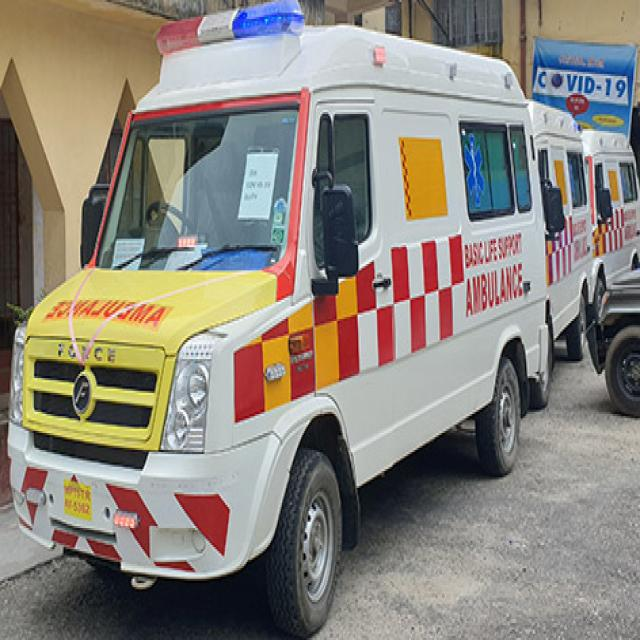emergency: (9, 2, 550, 634)
